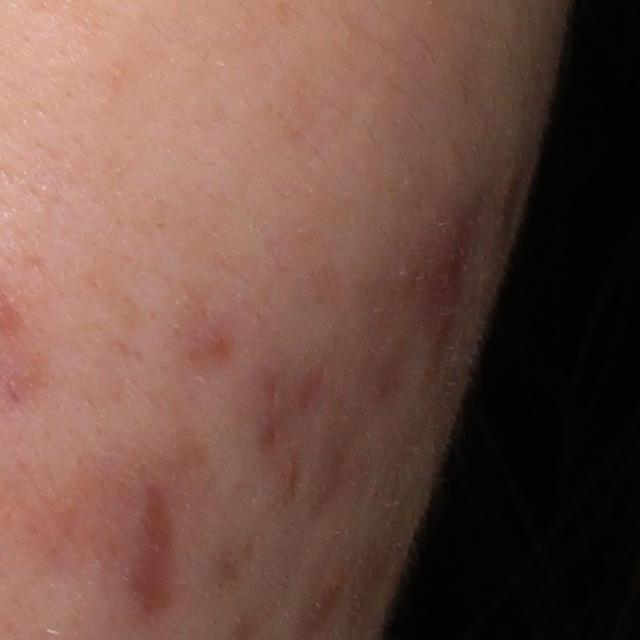atrophic_scar: (122, 479, 188, 618), (316, 439, 360, 512), (453, 206, 479, 290)
